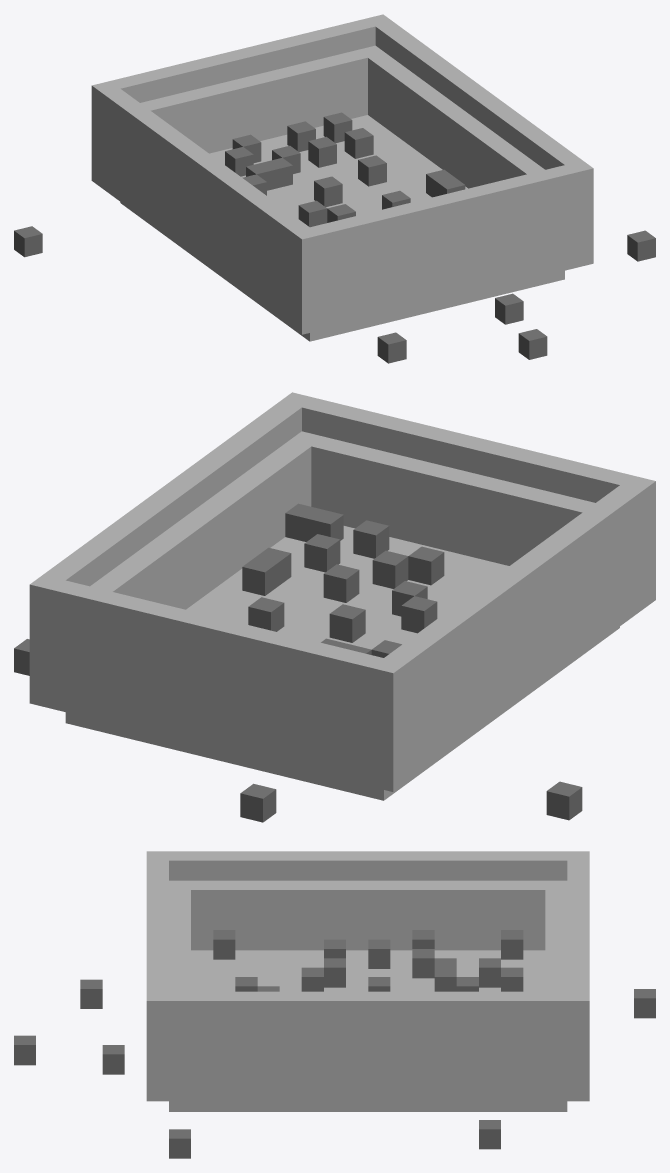
File: Litterbox.obj
3 views of the same model, one above another, from view 1: azimuth 30°, elevation 25°; view 2: azimuth 150°, elevation 25°; view 3: azimuth 270°, elevation 25° (orthographic). The views are drawn at different scales.
Visible parts, largest first — view 1: Litterbox; view 2: Litterbox; view 3: Litterbox.
Boxes of the visible parts, left/top/right/bottom form: Litterbox: left=14, top=14, right=655, bottom=363; Litterbox: left=14, top=392, right=655, bottom=822; Litterbox: left=14, top=851, right=655, bottom=1158.
Bounding box in the file's own units: 26 × 6 × 29.
Materials: 1 (1 with a texture image).
